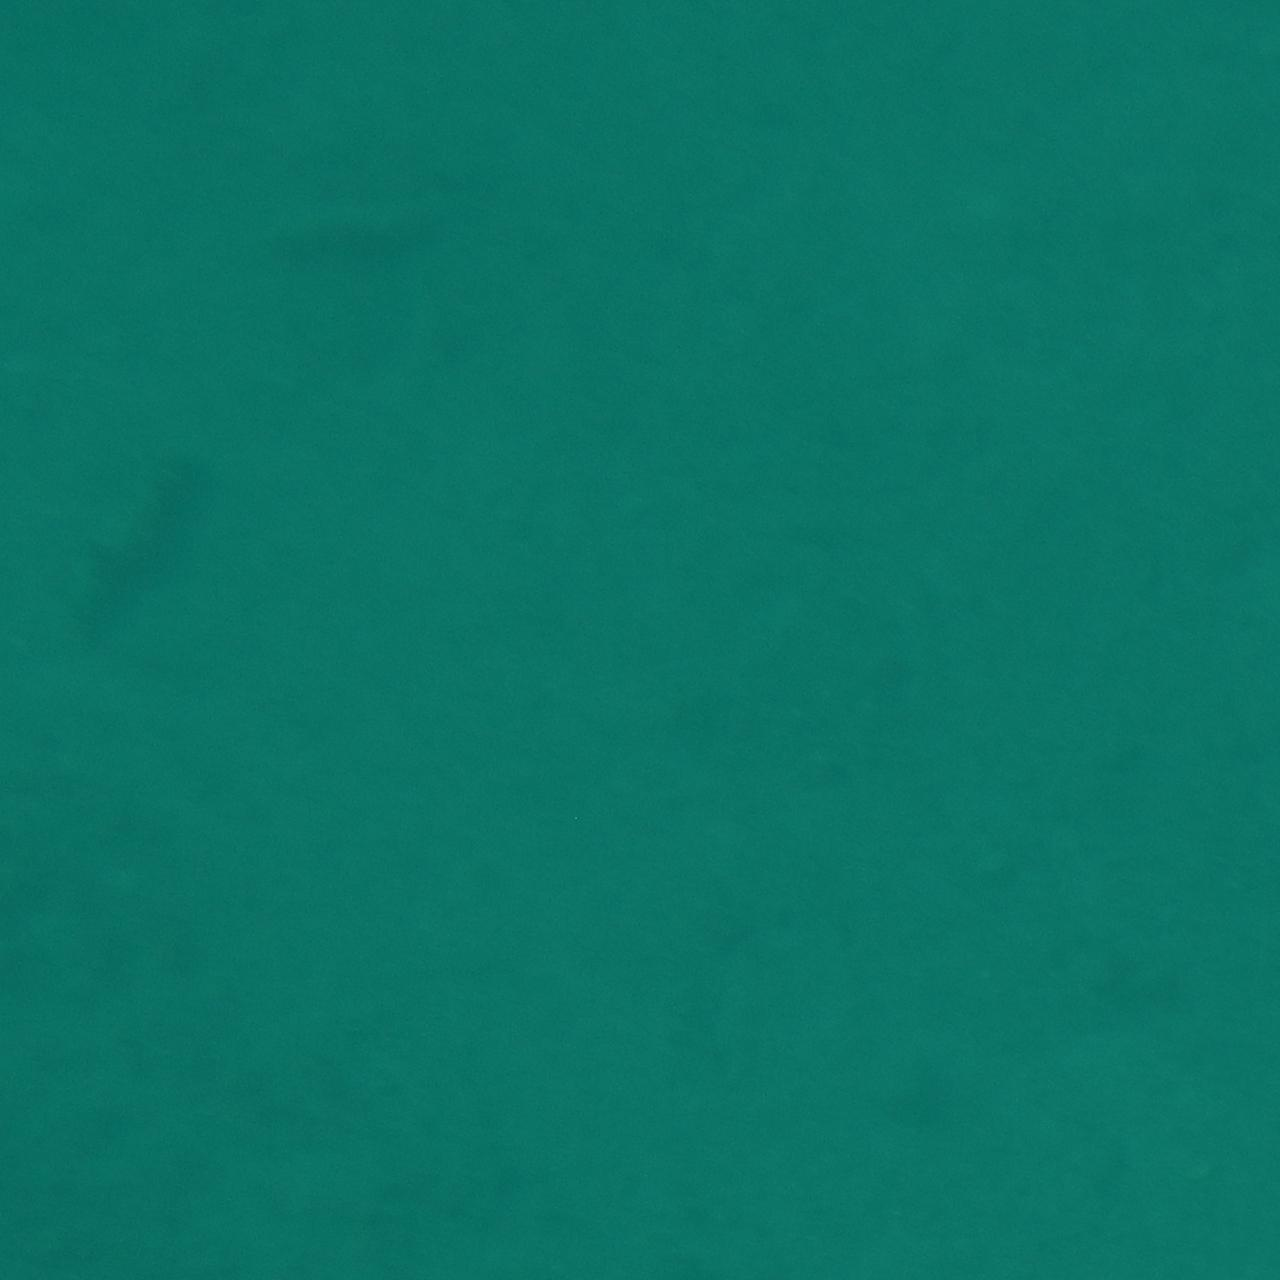Holothuria tubulosa: (42, 441, 212, 654), (272, 176, 464, 270)
